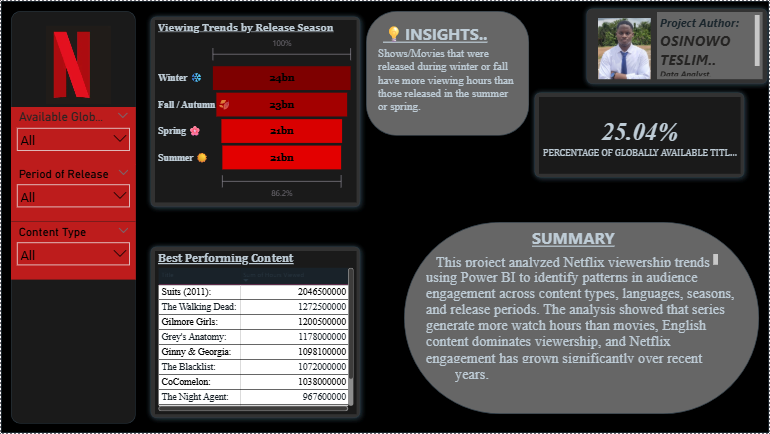

Layout of this report page (visuals, bound fields, positions):
{"tool":"powerbi","page":{"name":"Page 3","canvas":[1280,720],"ordinal":2},"visuals":[{"type":"shape","box":[0,0,1280,720],"z":0},{"type":"shape","box":[16,16,208,688],"z":1000},{"type":"image","box":[70,16,176,160],"z":2000},{"type":"slicer","fields":{"Values":["netflix_content.Available Globally?"]},"box":[16,176,208,96],"z":3000},{"type":"slicer","fields":{"Values":["netflix_content.Release Period (Seasons)"]},"box":[16,272,208,96],"z":4000},{"type":"slicer","fields":{"Values":["netflix_content.Content Type"]},"box":[16,368,208,96],"z":5000},{"type":"shape","box":[240,16,368,336],"z":6000},{"type":"funnel","title":"Viewing Trends by Release Season","fields":{"Y":["Sum(netflix_content.Hours Viewed)"],"Category":["netflix_content.Release Period (Seasons)"]},"box":[256,32,336,304],"z":7000},{"type":"shape","box":[965.9,2.7,320,144],"z":8000},{"type":"textbox","box":[1093.9,18.7,176,112],"z":9000},{"type":"image","box":[974.8,23.4,128,112],"z":10000},{"type":"shape","box":[608,16,272,208],"z":11000},{"type":"shape","box":[880,144,368,160],"z":12000},{"type":"card","fields":{"Values":["netflix_content.PERCENTAGE GLOBALLY AVAILABLE"]},"box":[896,160,336,128],"z":13000},{"type":"shape","box":[672,368,592,320],"z":14000},{"type":"shape","box":[240,400,368,304],"z":15000},{"type":"textbox","box":[632,31,210,48],"z":16000},{"type":"textbox","box":[624,72,240,128],"z":17000},{"type":"tableEx","title":"Best Performing Content","fields":{"Values":["netflix_content.Title","Sum(netflix_content.Hours Viewed)"]},"box":[256,416,336,272],"z":18000},{"type":"textbox","box":[880,371,160,48],"z":19000},{"type":"textbox","box":[704,441,528,176],"z":20000},{"type":"textbox","box":[720,416,480,32],"z":21000},{"type":"textbox","box":[752,604,432,37],"z":22000}]}

Visuals, with their boxes in screenshot pixels (x1, y1, x2, y2), scaled from the page's 1280x720 canvas onto the 770x434 screenshot:
shape: <bbox>0, 0, 769, 433</bbox>
shape: <bbox>10, 10, 135, 424</bbox>
image: <bbox>42, 10, 148, 106</bbox>
slicer - netflix_content.Available Globally?: <bbox>10, 106, 135, 164</bbox>
slicer - netflix_content.Release Period (Seasons): <bbox>10, 164, 135, 222</bbox>
slicer - netflix_content.Content Type: <bbox>10, 222, 135, 280</bbox>
shape: <bbox>144, 10, 366, 212</bbox>
"Viewing Trends by Release Season" funnel: <bbox>154, 19, 356, 203</bbox>
shape: <bbox>581, 2, 769, 88</bbox>
textbox: <bbox>658, 11, 764, 79</bbox>
image: <bbox>586, 14, 663, 82</bbox>
shape: <bbox>366, 10, 529, 135</bbox>
shape: <bbox>529, 87, 751, 183</bbox>
card - netflix_content.PERCENTAGE GLOBALLY AVAILABLE: <bbox>539, 96, 741, 174</bbox>
shape: <bbox>404, 222, 760, 415</bbox>
shape: <bbox>144, 241, 366, 424</bbox>
textbox: <bbox>380, 19, 507, 48</bbox>
textbox: <bbox>375, 43, 520, 121</bbox>
"Best Performing Content" tableEx: <bbox>154, 251, 356, 415</bbox>
textbox: <bbox>529, 224, 626, 253</bbox>
textbox: <bbox>424, 266, 741, 372</bbox>
textbox: <bbox>433, 251, 722, 270</bbox>
textbox: <bbox>452, 364, 712, 386</bbox>
